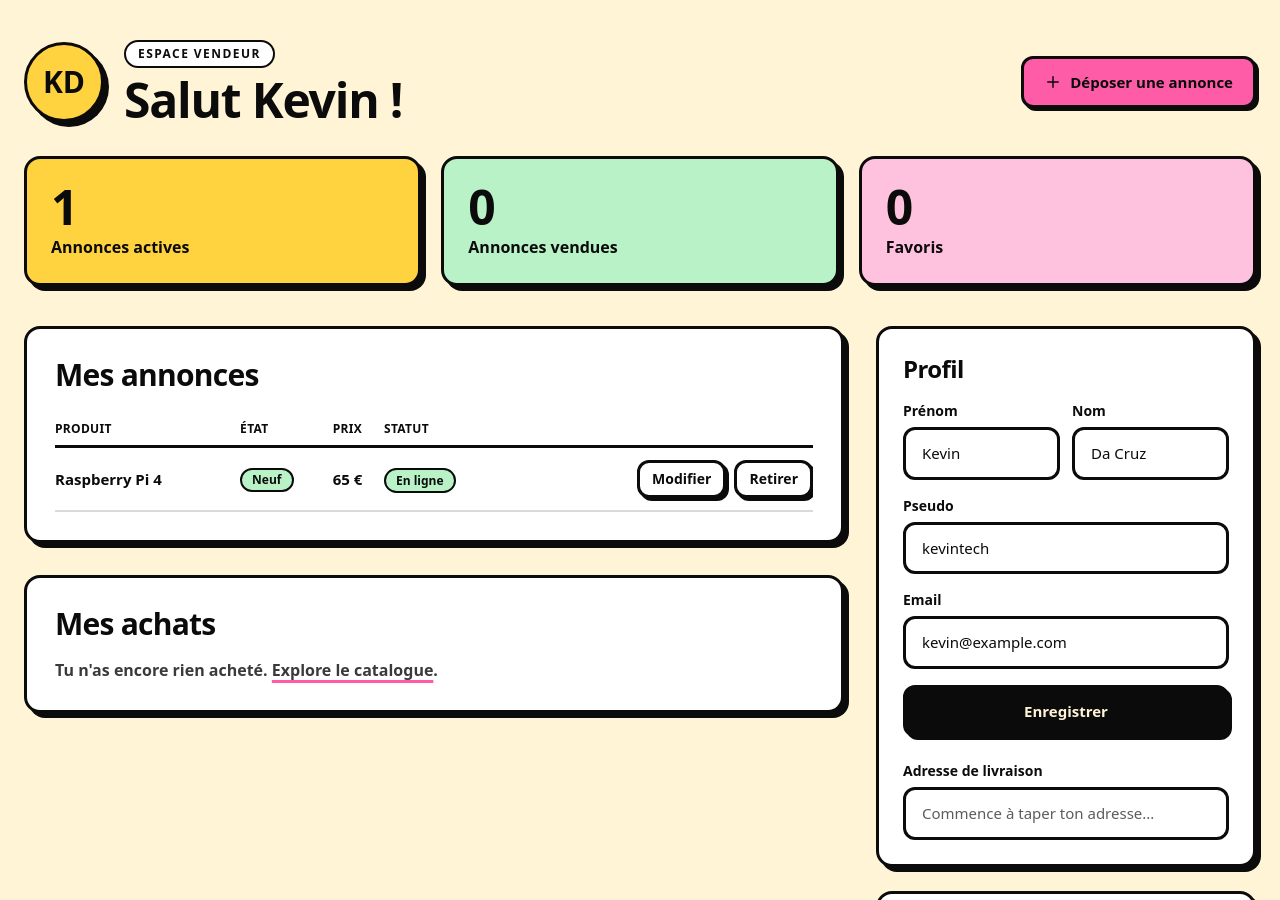
Test case: Account › withdraws a listing after a confirmation
What coordinates should you click on to do the following:
click the button with aria-label "Retirer l'annonce Raspberry Pi 4"
I would click on:
 (774, 479)
Its box is [734,460,813,498].
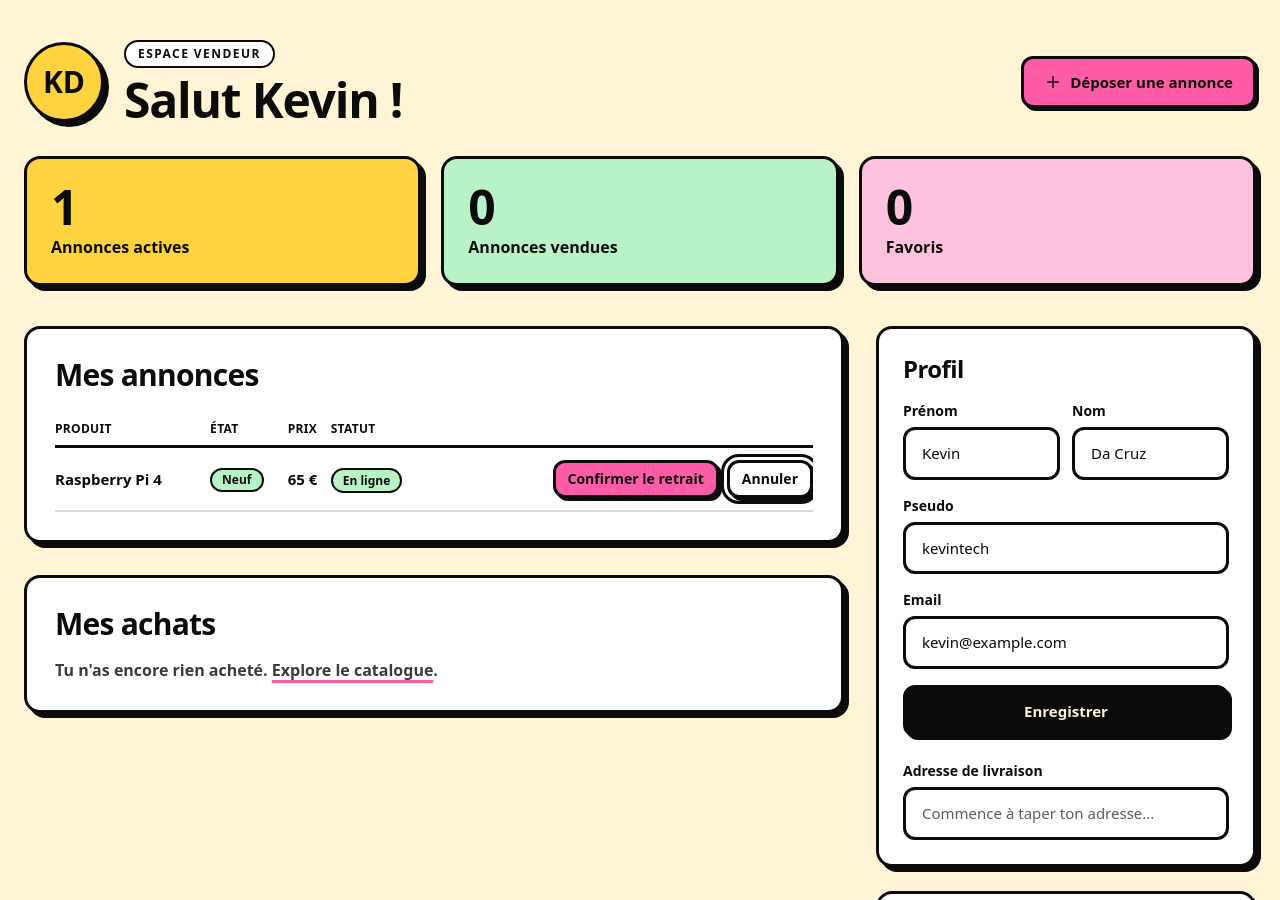
What coordinates should you click on to do the following:
click the button "Confirmer le retrait"
I would click on:
 (636, 479)
Its box is [552,460,719,498].
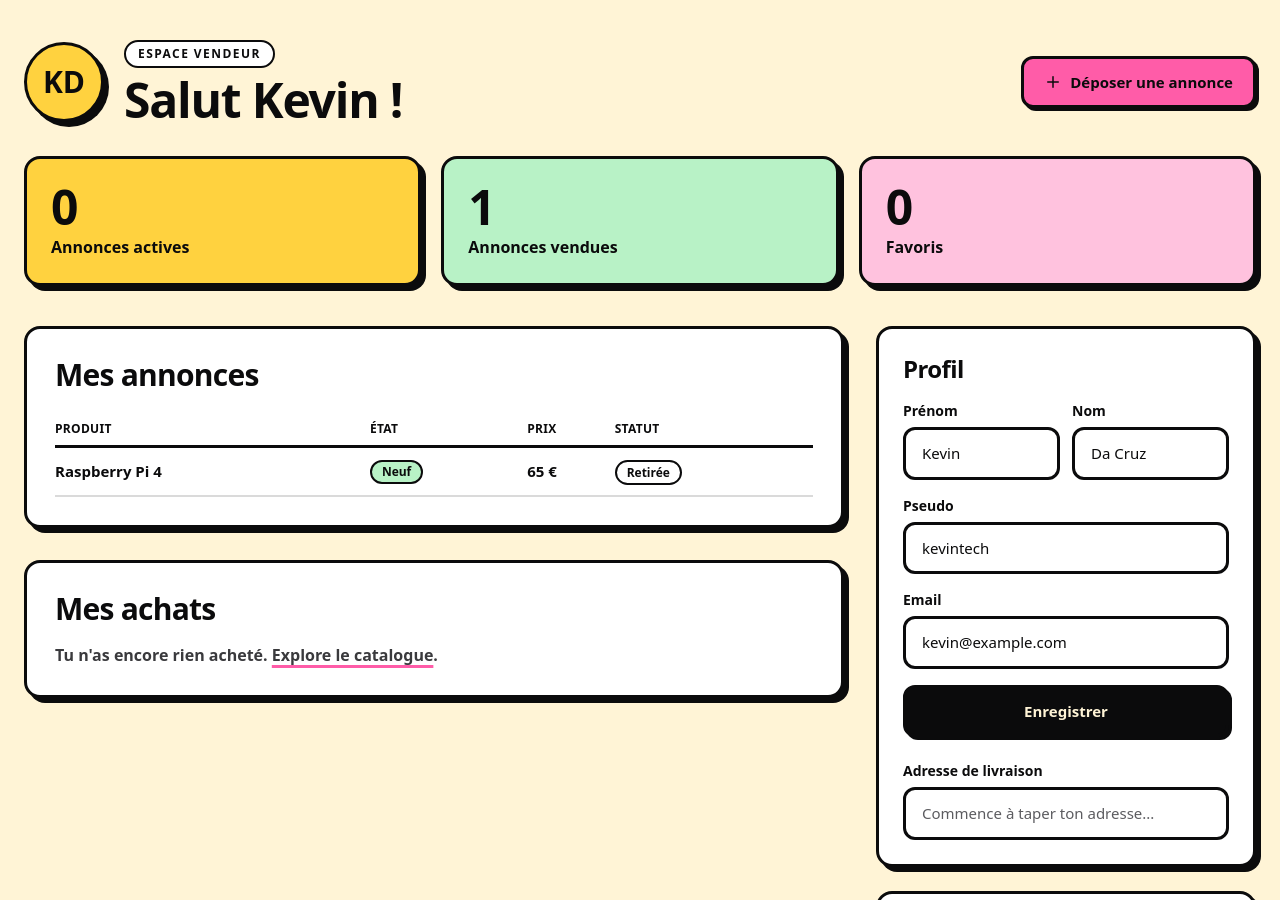
Expected: the text "Retirée" is shown, [615,460,682,485]
